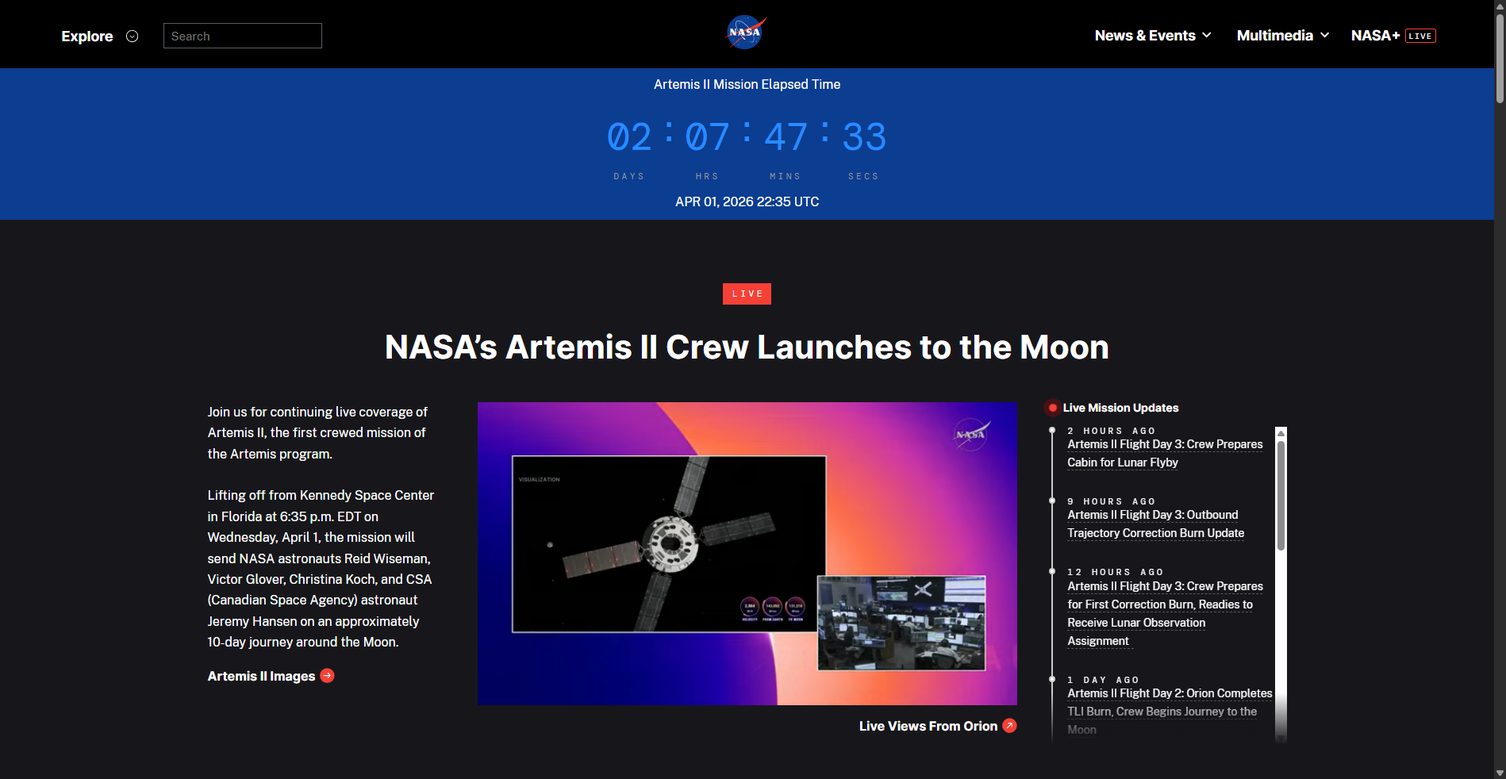general_button: (1082, 16, 1224, 55), (1224, 16, 1342, 55), (49, 16, 151, 56), (859, 718, 1017, 733), (207, 668, 334, 683), (999, 715, 1020, 736), (320, 668, 334, 683)
general_image: (723, 13, 771, 52)
general_link: (1342, 16, 1436, 56), (723, 13, 771, 56)
icon_search: (164, 23, 322, 49), (38, 81, 51, 113), (97, 213, 113, 229), (97, 262, 113, 278), (114, 310, 130, 326), (132, 366, 148, 382), (96, 421, 112, 437), (68, 561, 84, 577), (126, 484, 141, 500), (19, 263, 32, 276), (19, 312, 32, 325), (19, 367, 32, 380), (19, 485, 32, 498), (19, 91, 32, 103), (57, 91, 70, 103), (19, 215, 32, 227), (19, 423, 32, 435)
